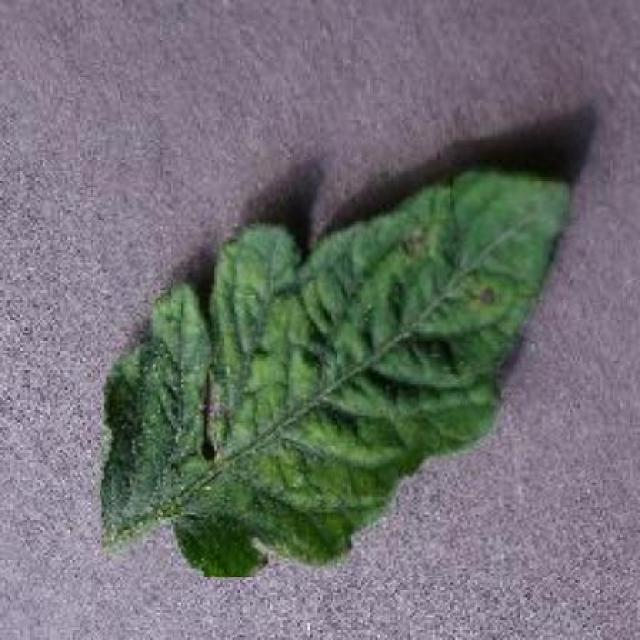Mosaic Virus: (101, 157, 570, 577)
